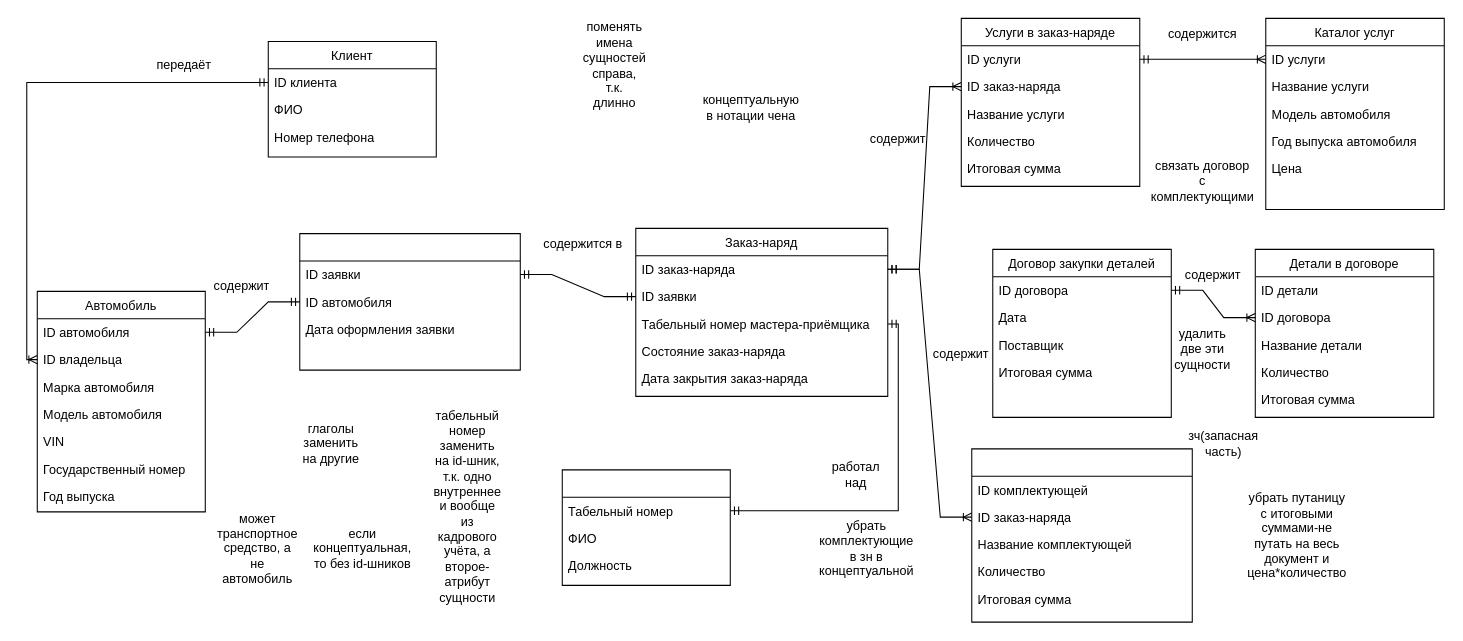
Image size: 1463x641. Some labels were removed from this diagram. The shapes that lost their labels are listed below. From the top down, each one's box as (x1, y1, x2, y2) in pixels, then its label:
(299, 233, 520, 370): Заявка
(561, 469, 730, 585): Персонал
(971, 448, 1192, 622): Комплектующие в заказ-наряде
